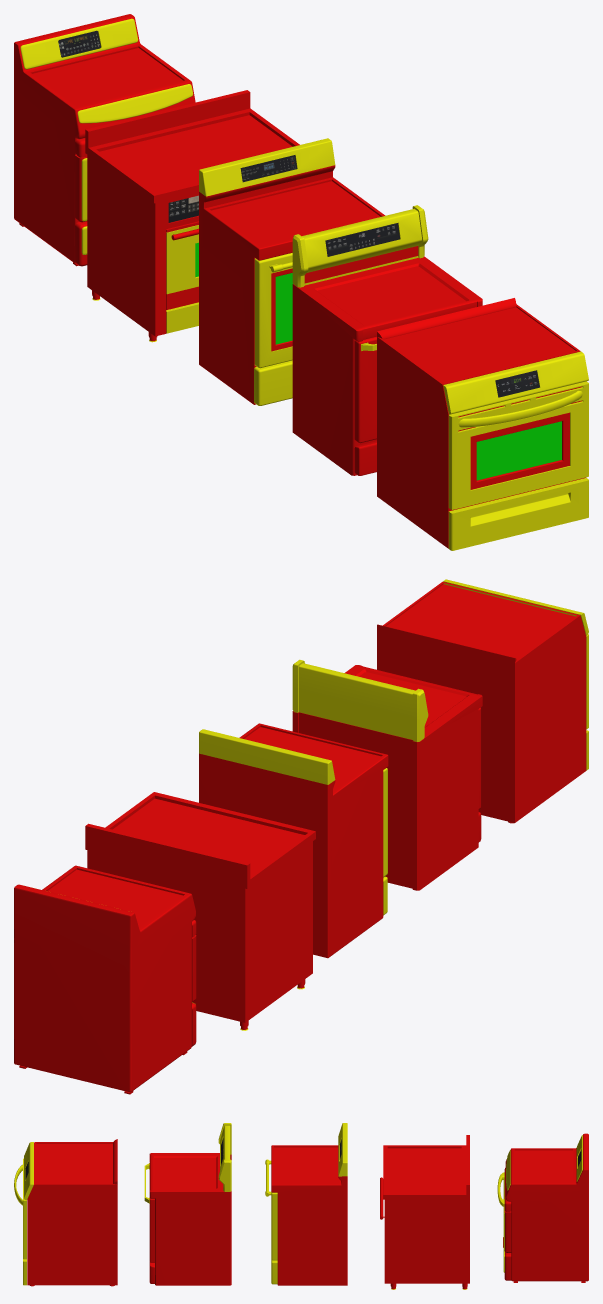
The model's file is MT_ovens_grp.fbx.
3 views of the same model, one above another, from view 1: azimuth 30°, elevation 25°; view 2: azimuth 150°, elevation 25°; view 3: azimuth 270°, elevation 25° (orthographic). The views are drawn at different scales.
Visible parts, largest first — view 1: oven_1, oven_4, oven_2, oven_3, oven_5; view 2: oven_5, oven_1, oven_4, oven_2, oven_3; view 3: oven_1, oven_4, oven_5, oven_2, oven_3.
Boxes of the visible parts, x1=… form: oven_1: x1=377, y1=298, x2=588, y2=550; oven_4: x1=85, y1=90, x2=299, y2=342; oven_2: x1=292, y1=205, x2=482, y2=475; oven_3: x1=199, y1=138, x2=385, y2=405; oven_5: x1=14, y1=14, x2=195, y2=266; oven_5: x1=14, y1=865, x2=196, y2=1094; oven_1: x1=377, y1=579, x2=588, y2=823; oven_4: x1=85, y1=792, x2=315, y2=1030; oven_2: x1=292, y1=659, x2=482, y2=890; oven_3: x1=199, y1=723, x2=388, y2=958; oven_1: x1=14, y1=1139, x2=117, y2=1286; oven_4: x1=380, y1=1135, x2=469, y2=1289; oven_5: x1=497, y1=1133, x2=588, y2=1282; oven_2: x1=144, y1=1123, x2=231, y2=1285; oven_3: x1=265, y1=1123, x2=347, y2=1285.
Size of the model in its own units: 99.62 by 116 by 486.
Materials: 4 (1 with a texture image).
